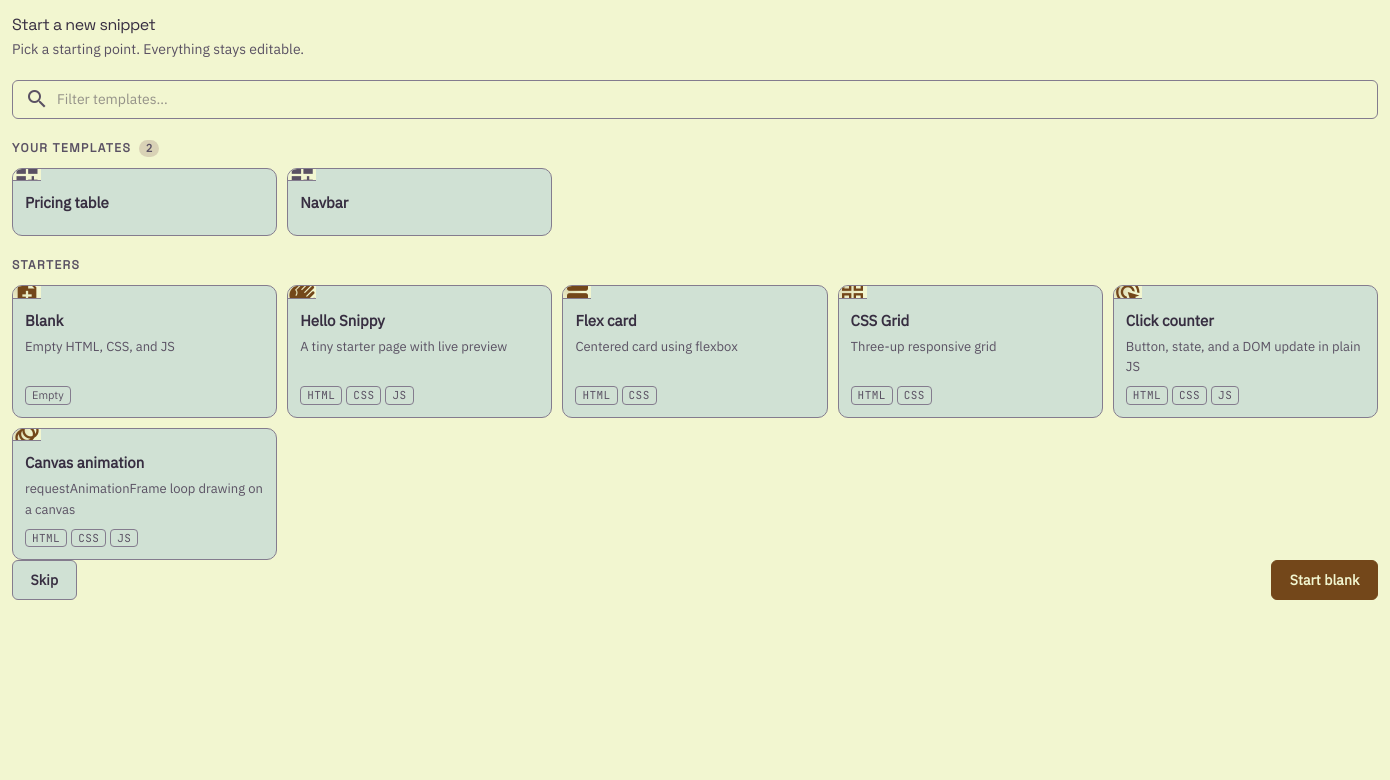
Test: TemplatePickerDialogComponent › filters both sections once there are enough templates to search
The width and height of the screenshot is (1390, 780).
Type "grid" into the search field with placeholder "Filter templates…" at [711, 99], box [57,88,1365,111]
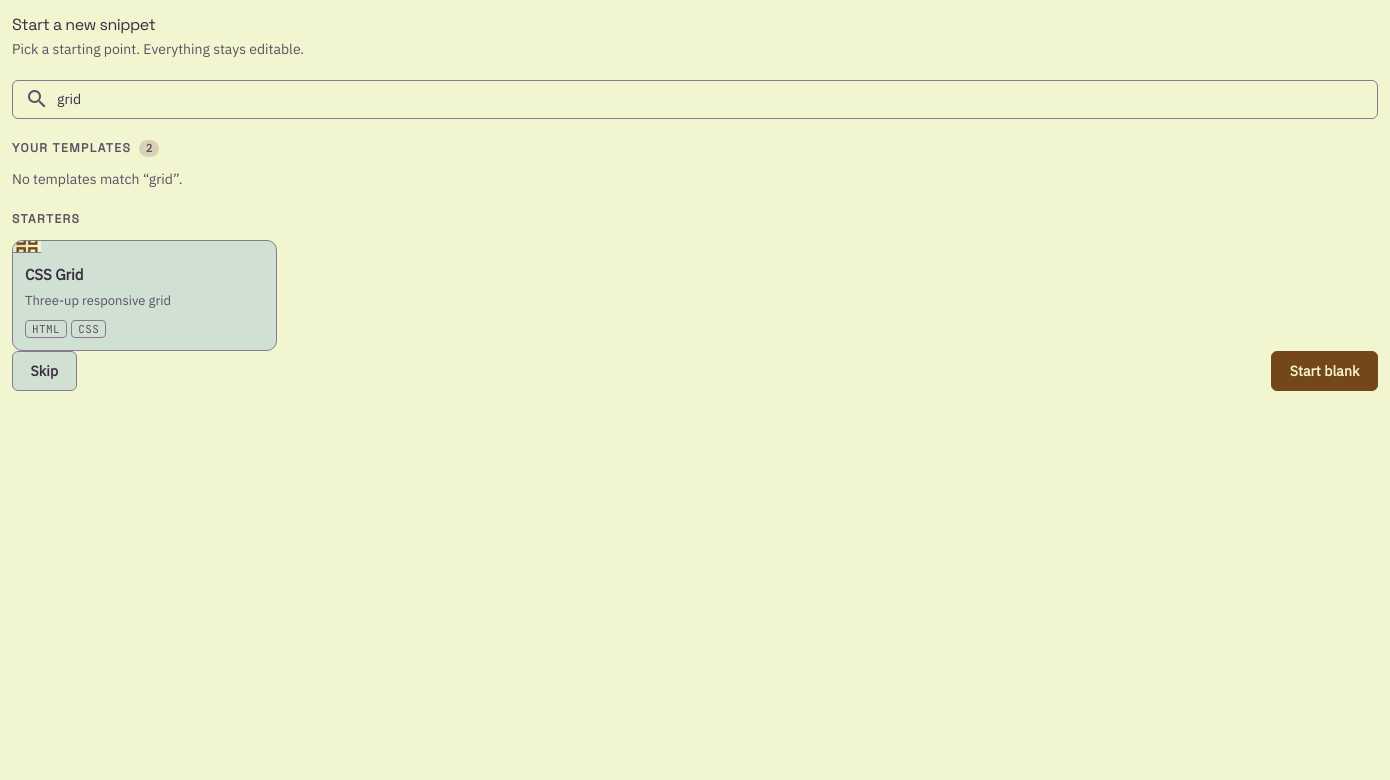
Check: the number of buttons with class "tpl-card" is 1, box [12,240,277,351]
Check: the text "No templates match" is shown, box [12,170,182,188]
